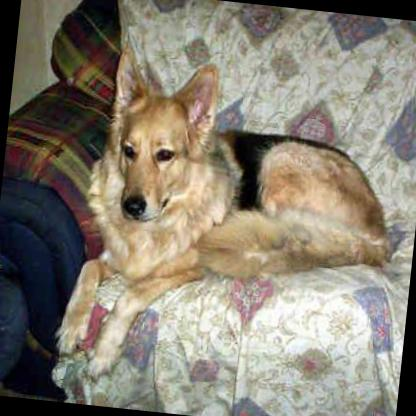German_shepherd: (49, 41, 408, 406)
